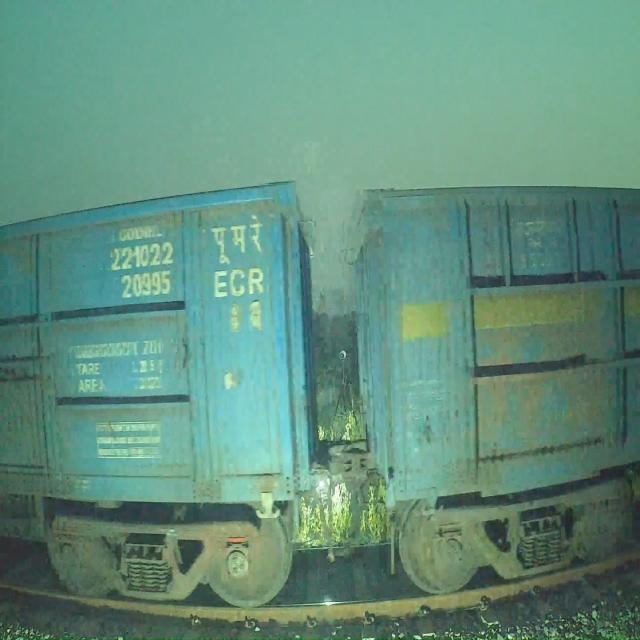WAgon-uic: (0, 172, 326, 619), (339, 177, 640, 598)
uic: (102, 236, 181, 303)
